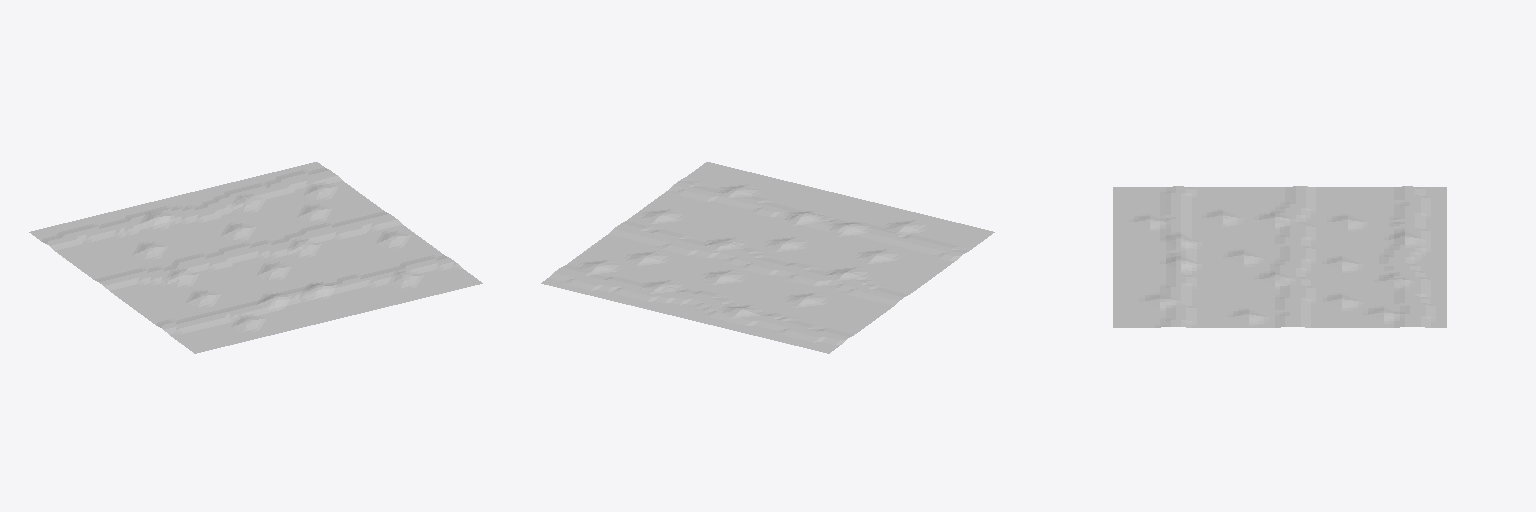
The model's file is lake12.obj.
3 views of the same model, side by side, from view 1: azimuth 30°, elevation 25°; view 2: azimuth 150°, elevation 25°; view 3: azimuth 270°, elevation 25° (orthographic).
Parts seen in each view (by area): view 1: lake.002; view 2: lake.002; view 3: lake.002.
Part boxes in pixels (x1,y1,x2,y2): lake.002: (29,162,482,353); lake.002: (541,162,994,353); lake.002: (1113,186,1446,327).
Size of the model in its own units: 332 by 3.9 by 332.